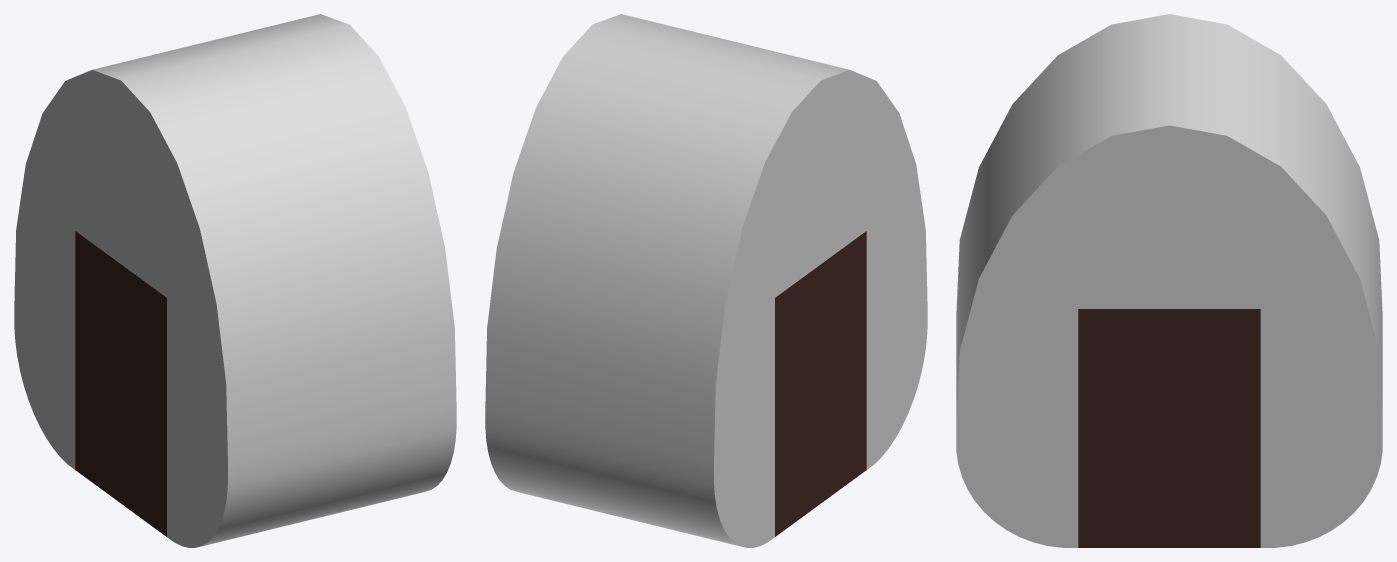
Rendered from riceBall.obj.
3 views of the same model, side by side, from view 1: azimuth 30°, elevation 25°; view 2: azimuth 150°, elevation 25°; view 3: azimuth 270°, elevation 25° (orthographic).
Visible parts, largest first — view 1: riceBall; view 2: riceBall; view 3: riceBall.
Boxes of the visible parts, box(x1,y1,x2,y2) form: riceBall: box(14, 14, 456, 547); riceBall: box(485, 14, 927, 547); riceBall: box(956, 14, 1382, 547).
Bounding box in the file's own units: 0.0712 × 0.1259 × 0.1152.
